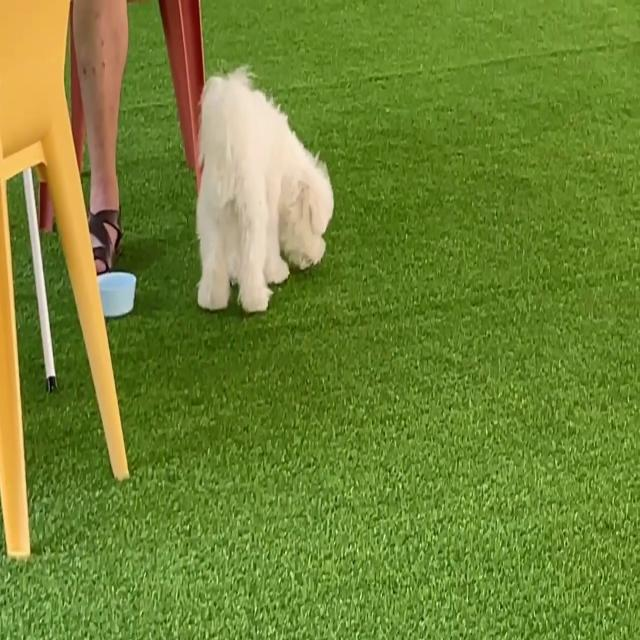Dog: (193, 65, 335, 312)
